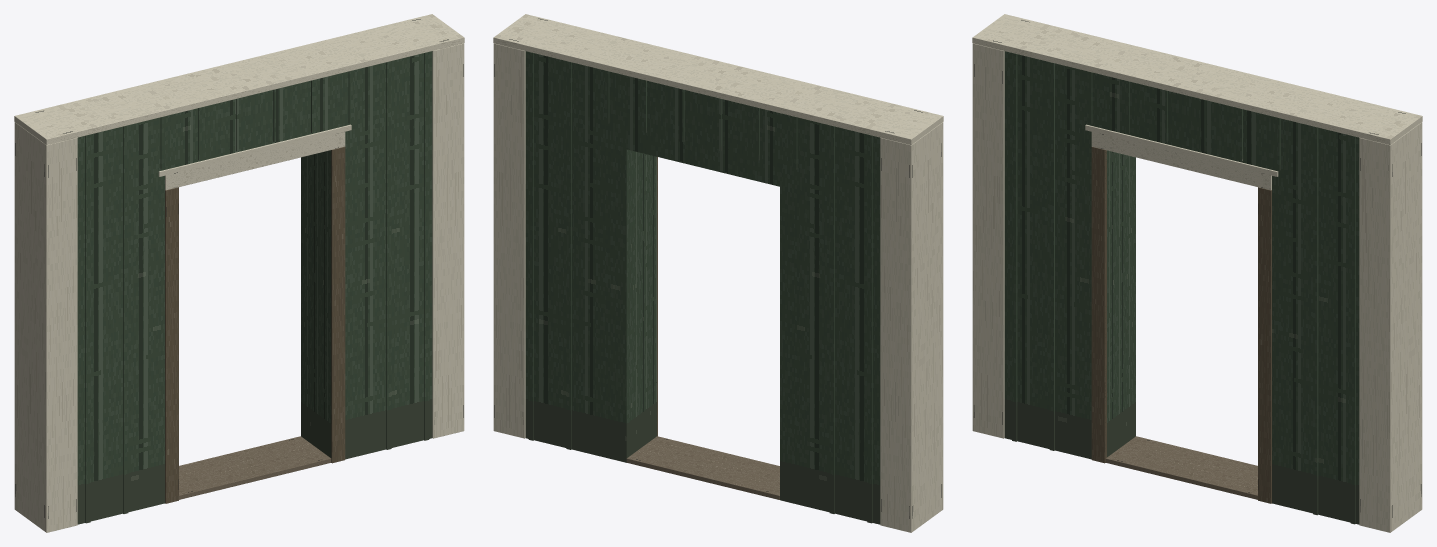
File: house_04_wall_doorway.glb
The picture shows the model from 3 angles, left to right: view 1: azimuth 30°, elevation 25°; view 2: azimuth 150°, elevation 25°; view 3: azimuth 330°, elevation 25°; orthographic projection.
Parts seen in each view (by area): view 1: house_04_wall_doorway; view 2: house_04_wall_doorway; view 3: house_04_wall_doorway.
Part boxes in pixels (left/top/right/bottom): house_04_wall_doorway: left=14, top=14, right=464, bottom=532; house_04_wall_doorway: left=493, top=14, right=943, bottom=532; house_04_wall_doorway: left=972, top=14, right=1422, bottom=532.
Bounding box in the file's own units: 3 × 2.7 × 0.4.
Materials: 4 (4 with a texture image).
